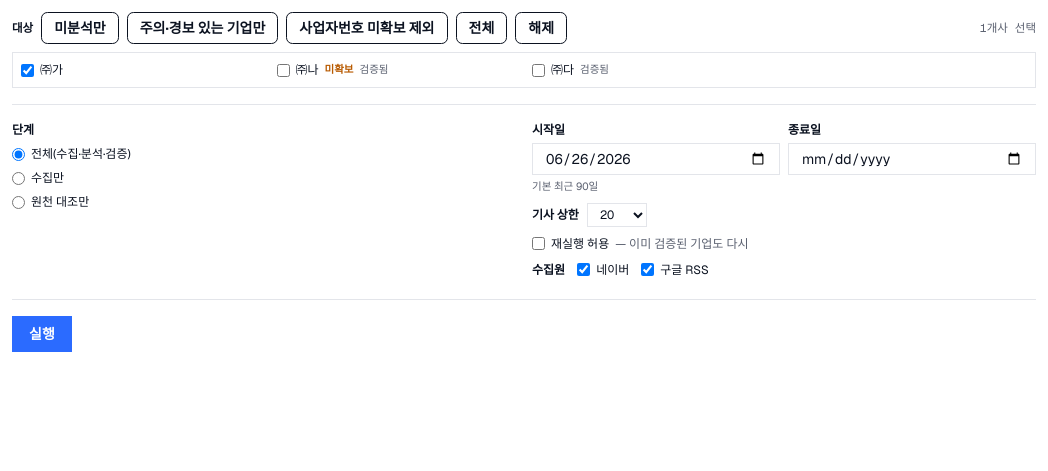
Scenario: BatchRunner › blocks a second 실행 while the start request is still in flight
The width and height of the screenshot is (1048, 471).
Click the button "실행": (42, 334) [12,316,72,352]
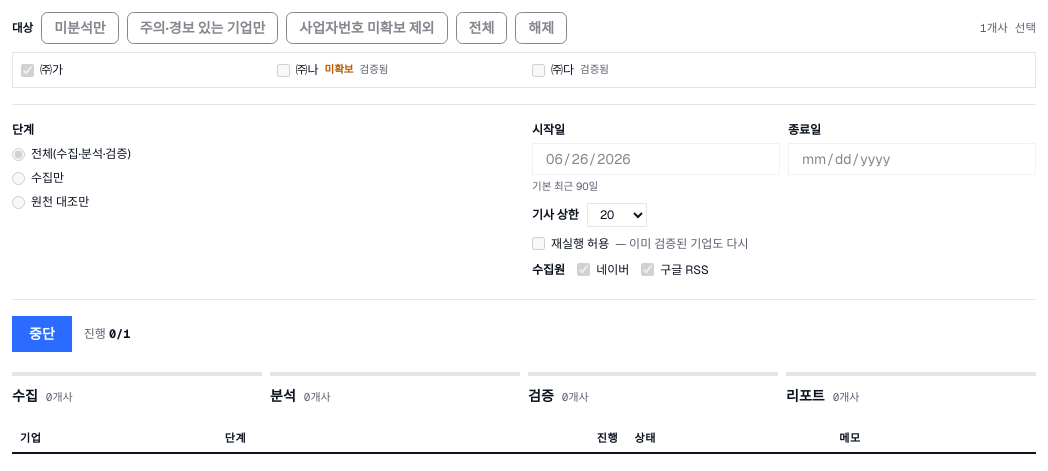
Expected: the button "중단" is shown, [12,316,72,352]
